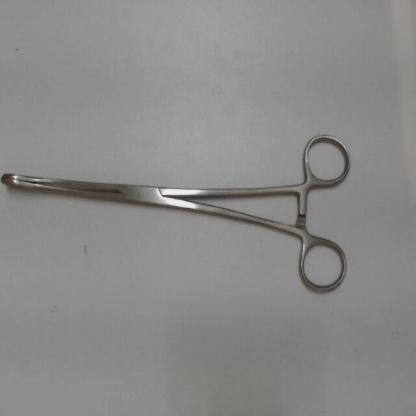Sponge Forceps: (1, 126, 358, 300)
